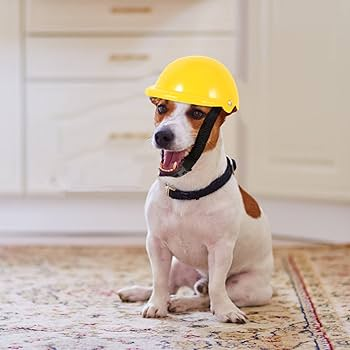Casco de seguridad: (145, 56, 238, 112)
